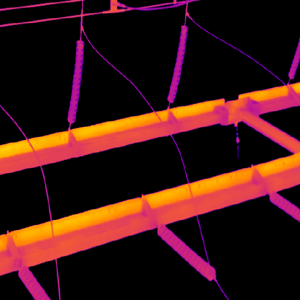insulator: (155, 221, 216, 281), (165, 24, 187, 103), (66, 38, 85, 124), (16, 263, 50, 300), (268, 188, 300, 223), (285, 41, 300, 78)
